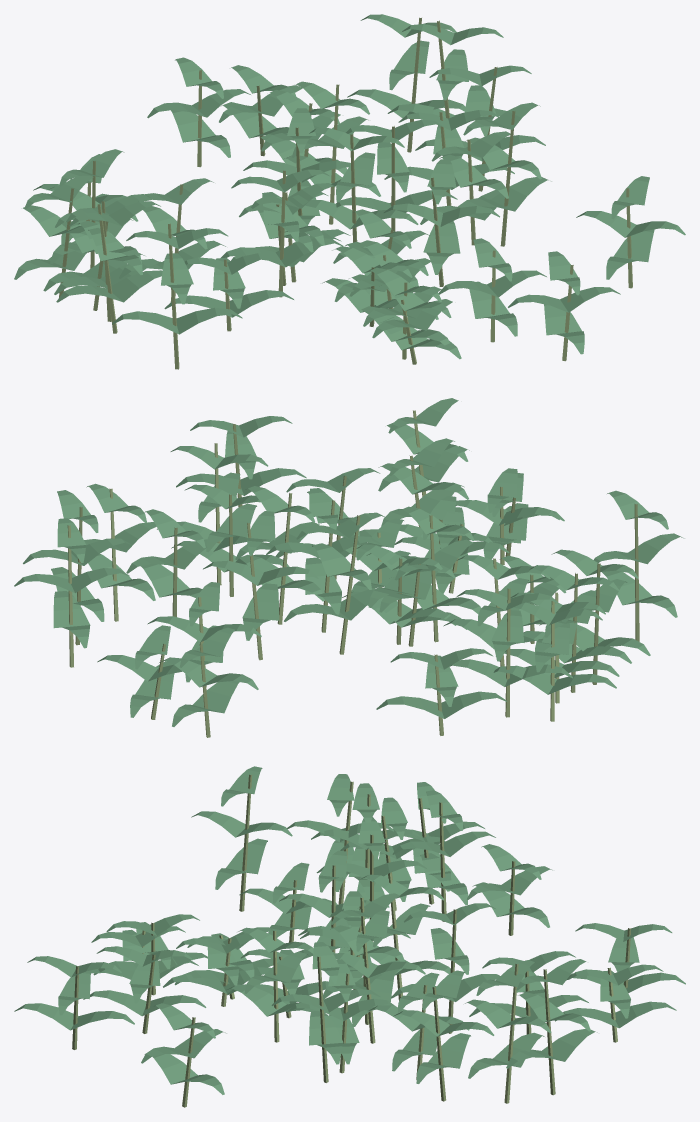
File: temperate-forest-ecology-dogs-mercury-carpet-d9832b59__3852.glb
3 views of the same model, one above another, from view 1: azimuth 30°, elevation 25°; view 2: azimuth 150°, elevation 25°; view 3: azimuth 270°, elevation 25° (orthographic). The views are drawn at different scales.
Parts seen in each view (by area): view 1: dogs-mercury-carpet; view 2: dogs-mercury-carpet; view 3: dogs-mercury-carpet.
Part boxes in pixels (x1,y1,x2,y2): dogs-mercury-carpet: (14,14,685,369); dogs-mercury-carpet: (14,398,684,737); dogs-mercury-carpet: (14,766,685,1107).
Size of the model in its own units: 1.47 by 0.3723 by 1.67.
